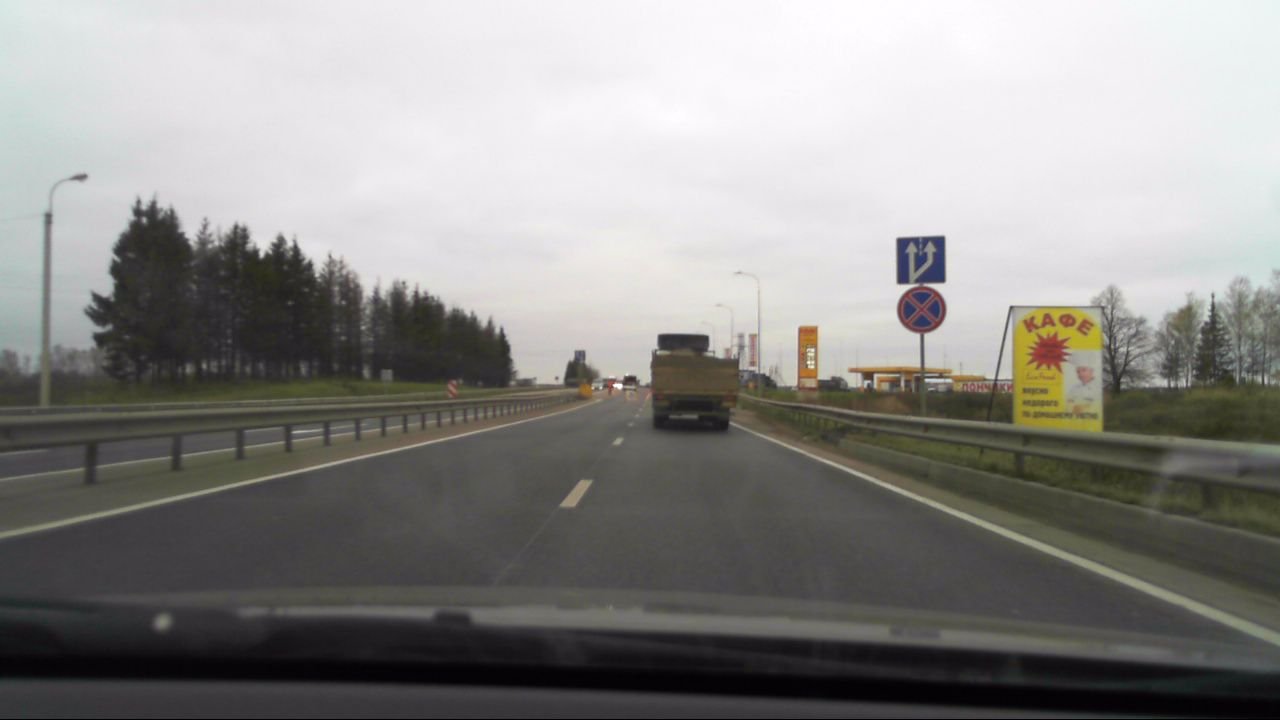No Parking: (893, 288, 946, 333)
